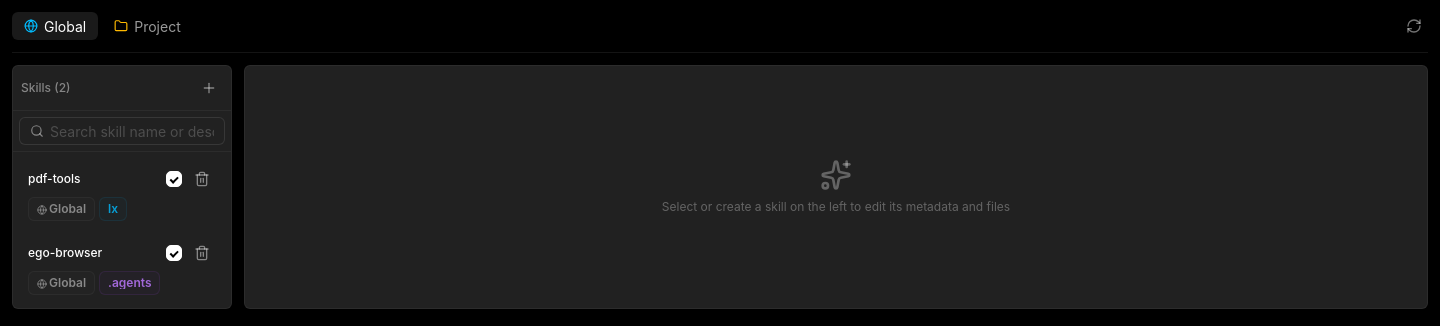
Test case: SkillSettings › 全局作用域仅显示全局技能并带来源标签，切换项目后按项目加载
Expected: the text "pdf-tools" is shown, [28, 171, 81, 187]
Expected: the text "ego-browser" is shown, [28, 245, 102, 261]
Click the button "Project" at (147, 26), box [102, 12, 193, 40]
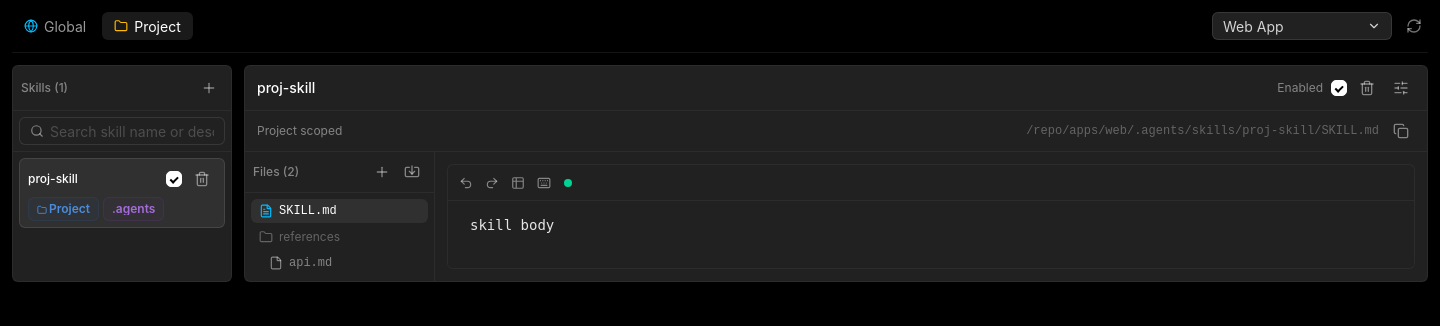
Expected: the 2nd text "proj-skill" is shown, [28, 171, 78, 187]
